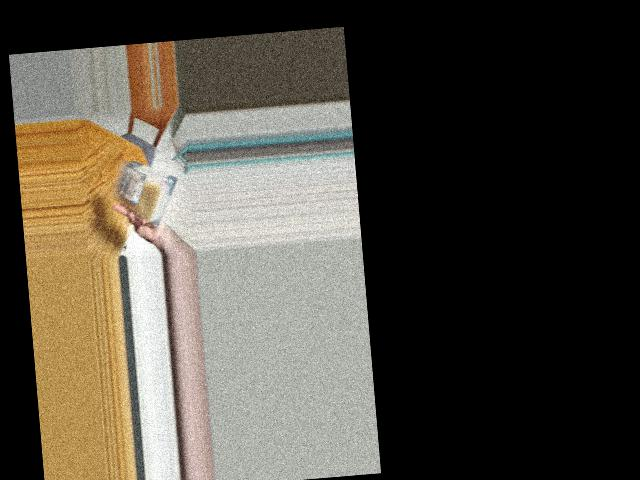cheese: (114, 160, 169, 224)
